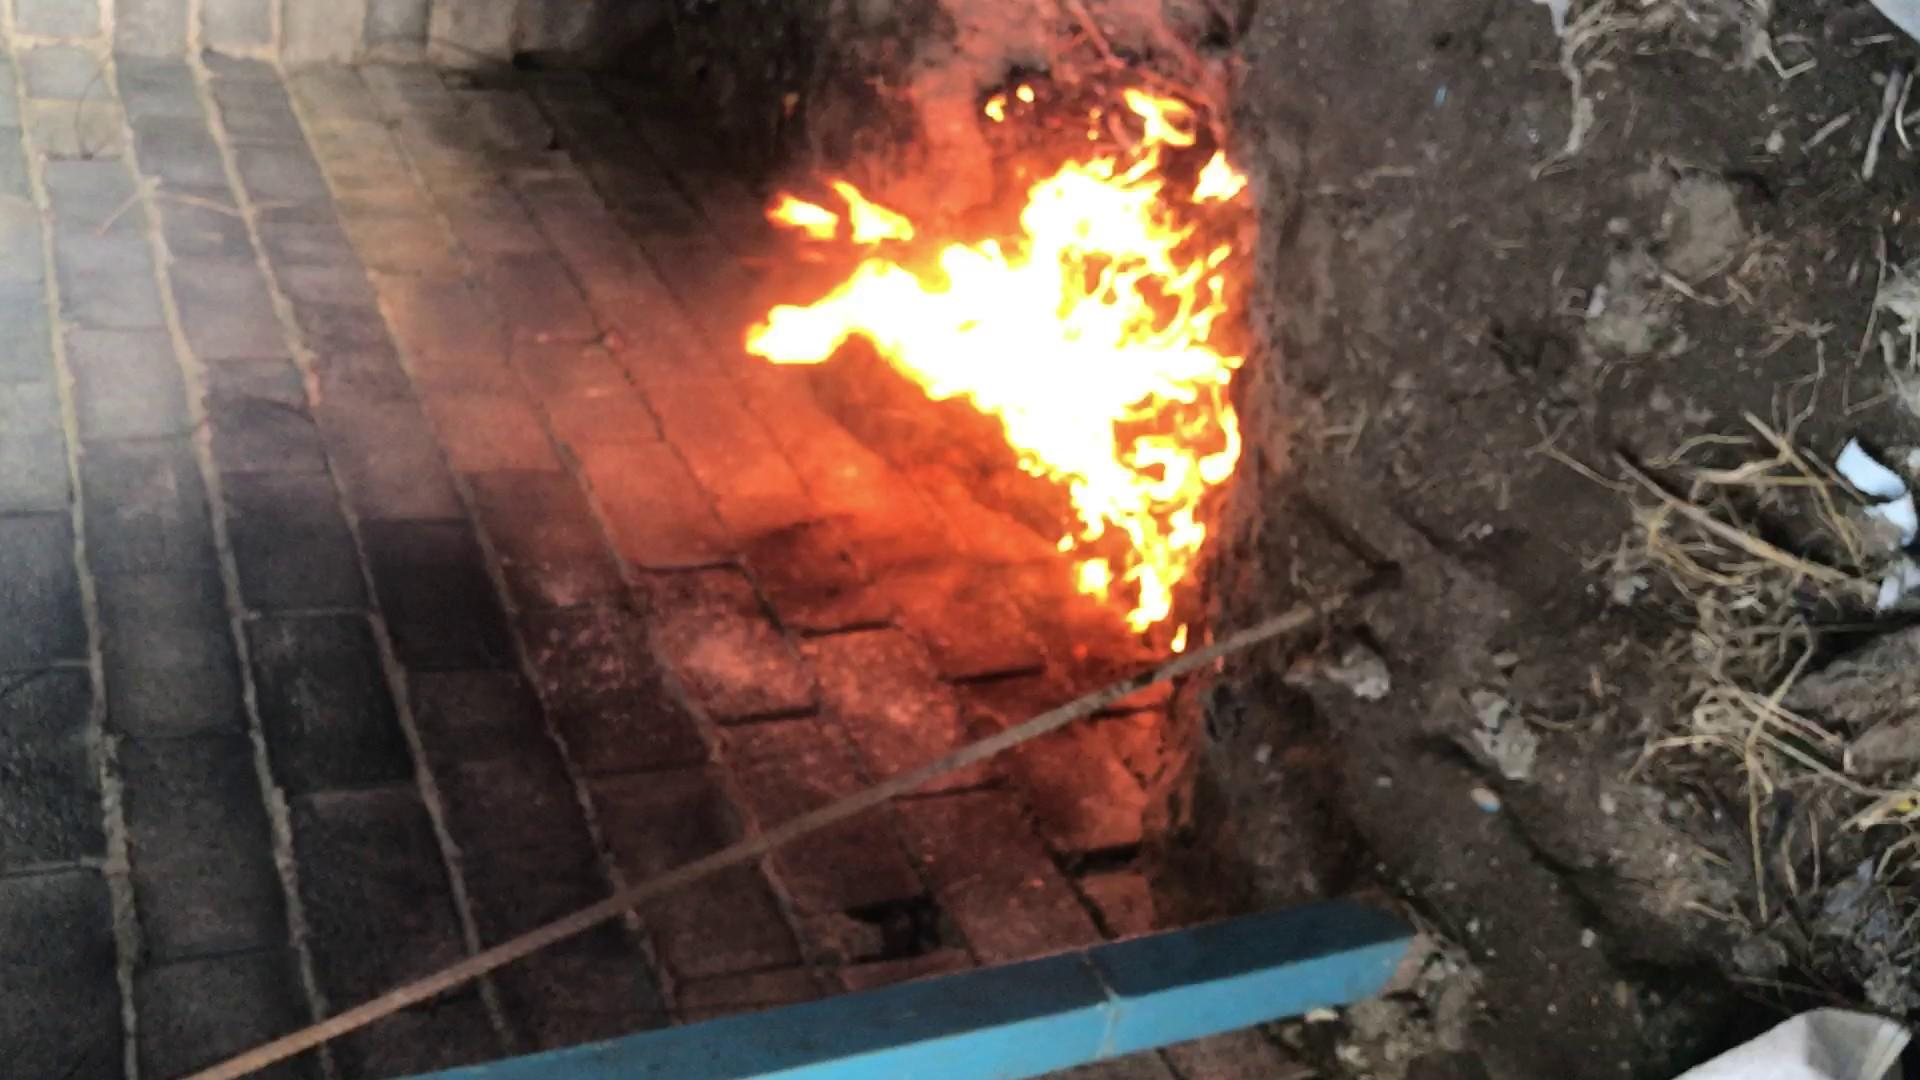fire: (878, 431, 1768, 687)
